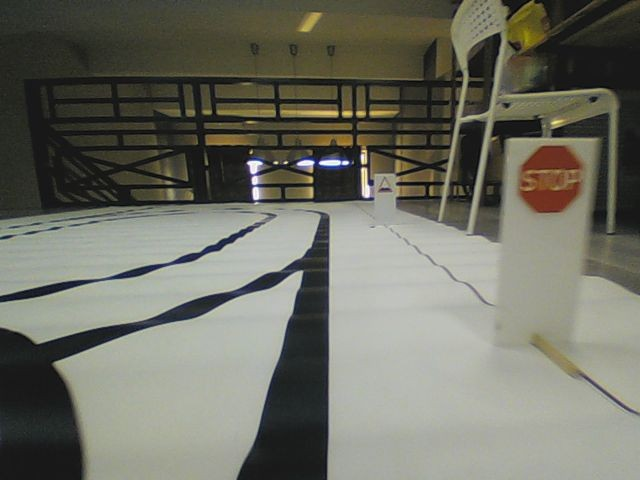Nerov: (377, 176, 392, 193)
Stop: (518, 143, 583, 215)
